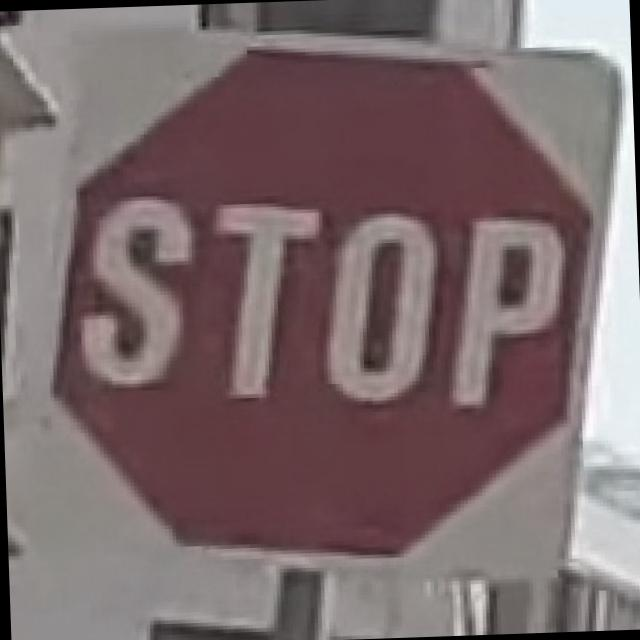mandatorystop_sign: (30, 16, 630, 584)
